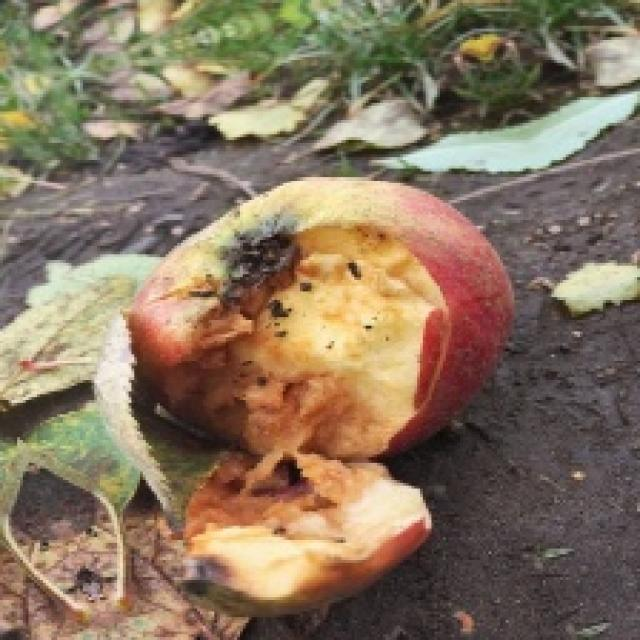rotten_apple: (137, 179, 509, 441)
